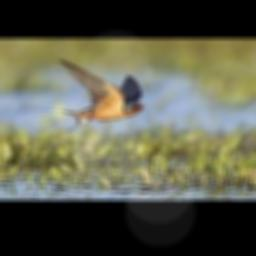Swallow: (33, 59, 145, 133)
